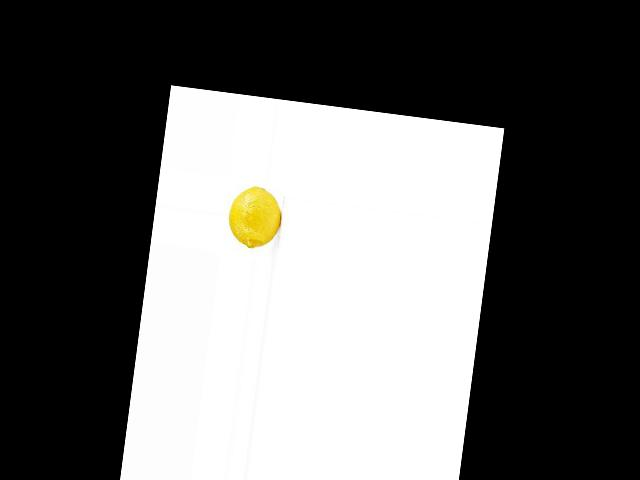lemon: (223, 176, 286, 260)
